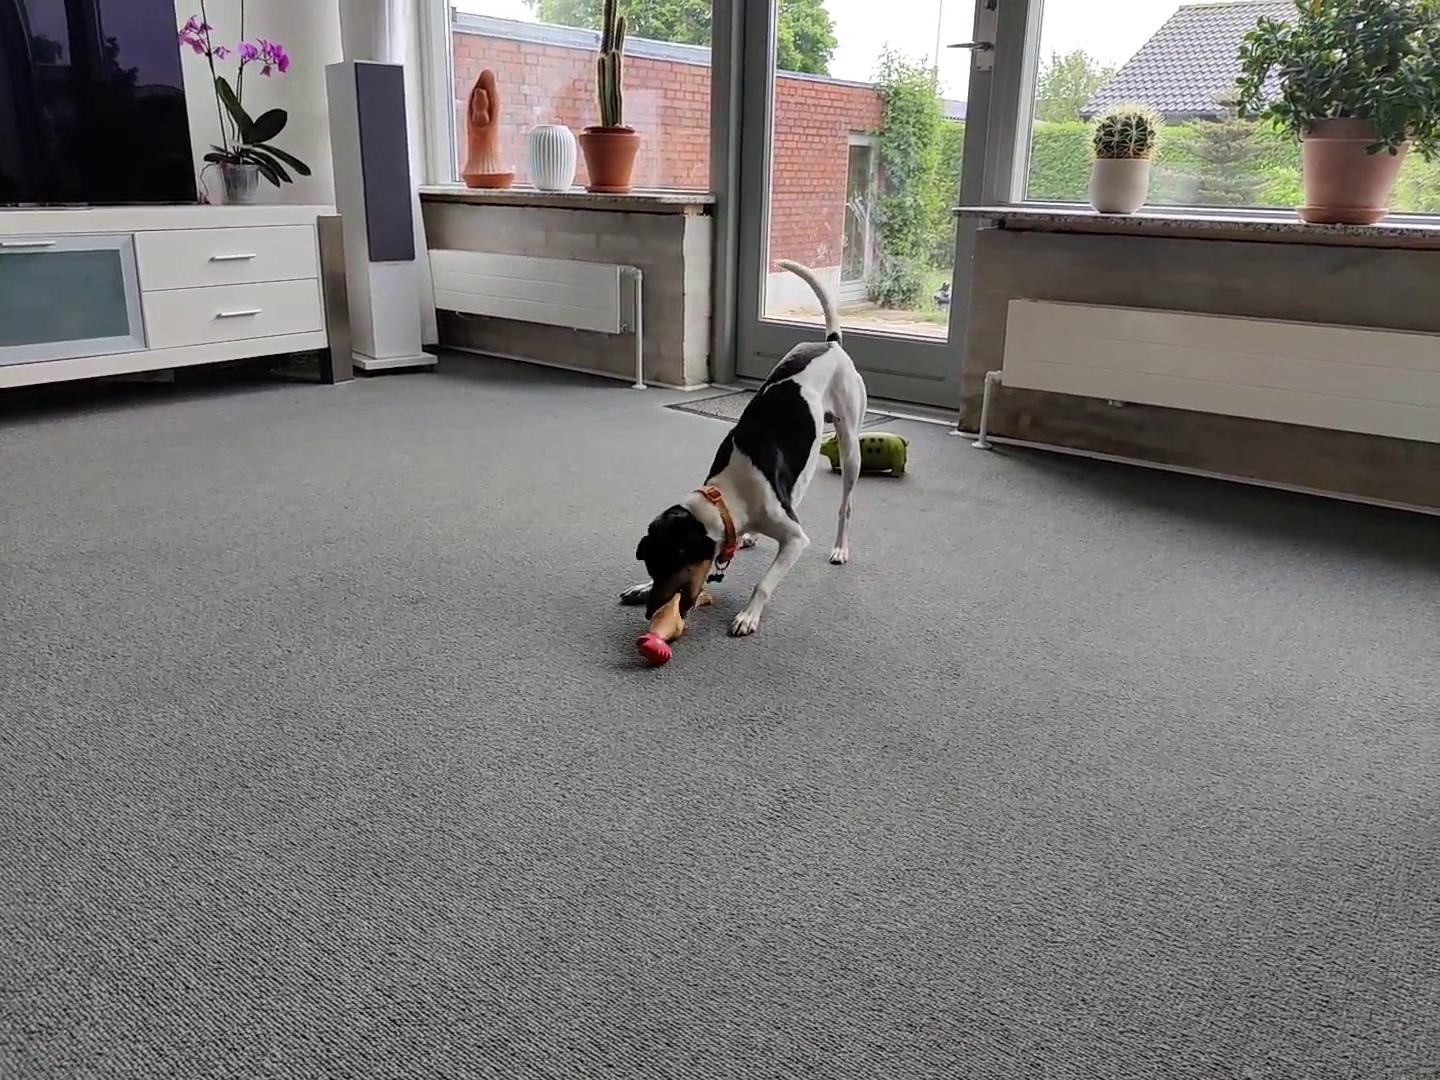Dog: (609, 250, 872, 644)
